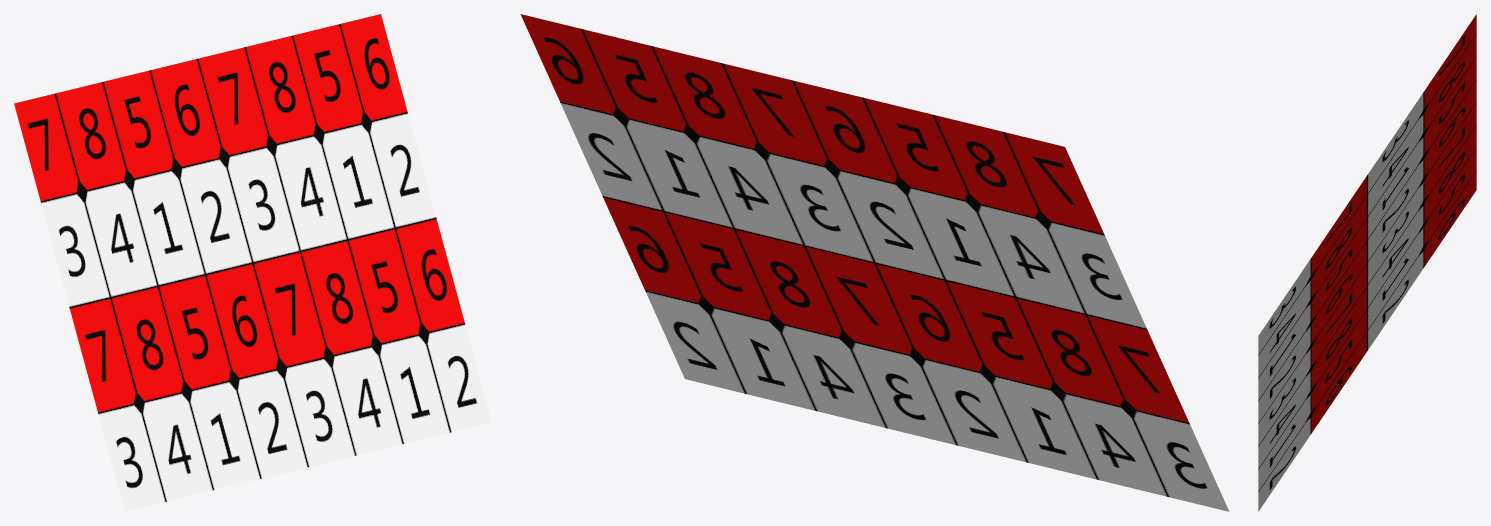
Rendered from Ball.fbx.
The picture shows the model from 3 angles, left to right: view 1: azimuth 30°, elevation 25°; view 2: azimuth 150°, elevation 25°; view 3: azimuth 270°, elevation 25°; orthographic projection. The views are drawn at different scales.
Parts seen in each view (by area): view 1: pPlane1; view 2: pPlane1; view 3: pPlane1.
Boxes of the visible parts, x1,y1,x2,y2 form: pPlane1: [14, 14, 491, 511]; pPlane1: [520, 14, 1229, 511]; pPlane1: [1258, 14, 1476, 511].
Bounding box in the file's own units: 1 × 0.852 × 0.5235.
